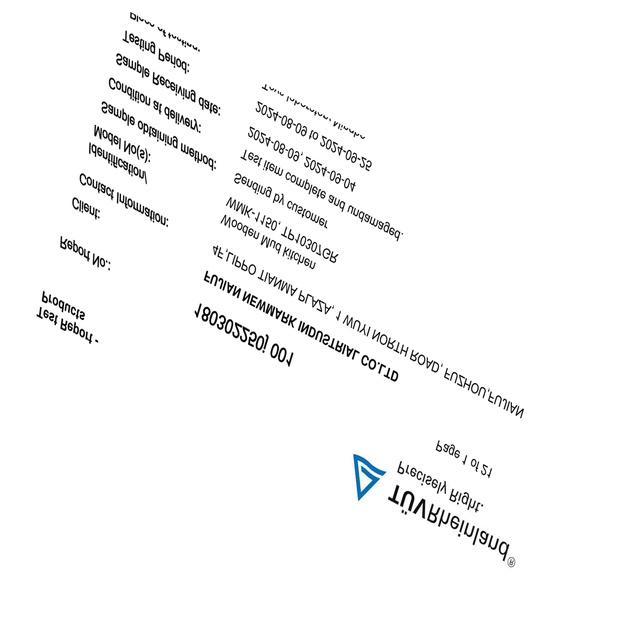tuv_rheinland: (349, 448, 517, 571)
